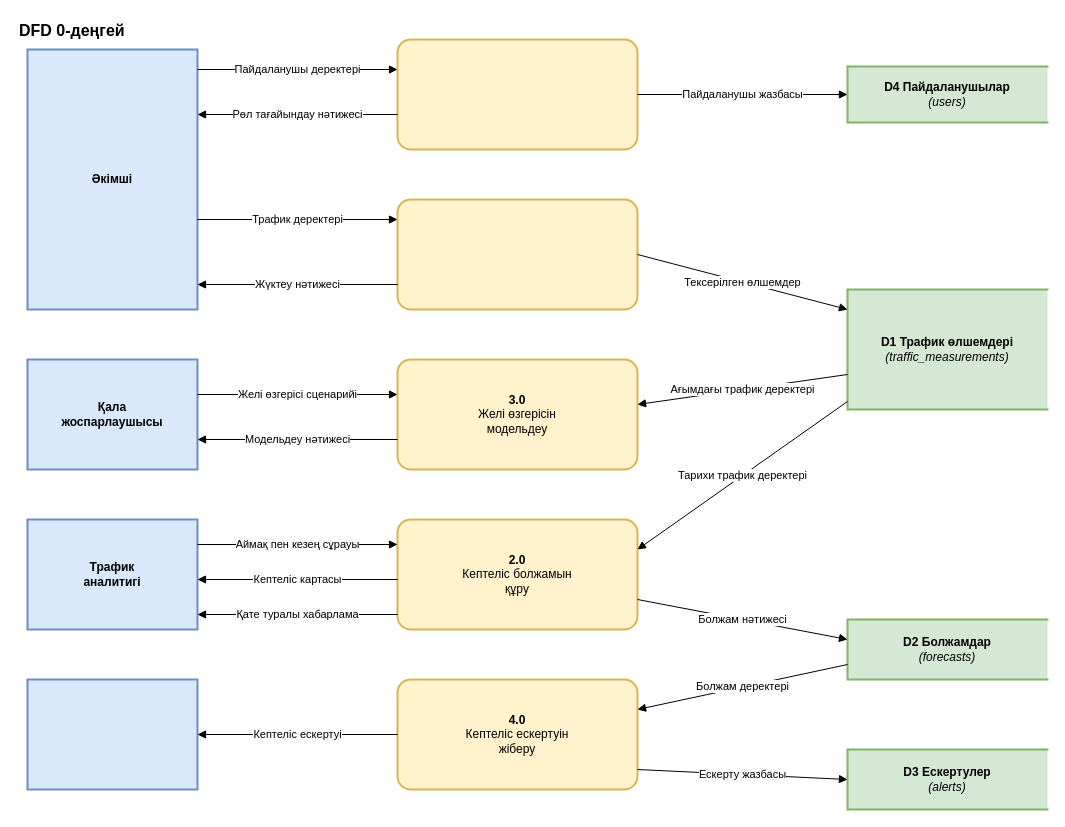
Some shapes in this 1065 by 827 pixel diagram are drawn without their labels. The centre of each missing label's shape, as x and y in pixels:
1.0 Трафик деректерін жүктеу: point 517,254
5.0 Пайдаланушыларды басқару: point 517,94
Диспетчер: point 112,734
